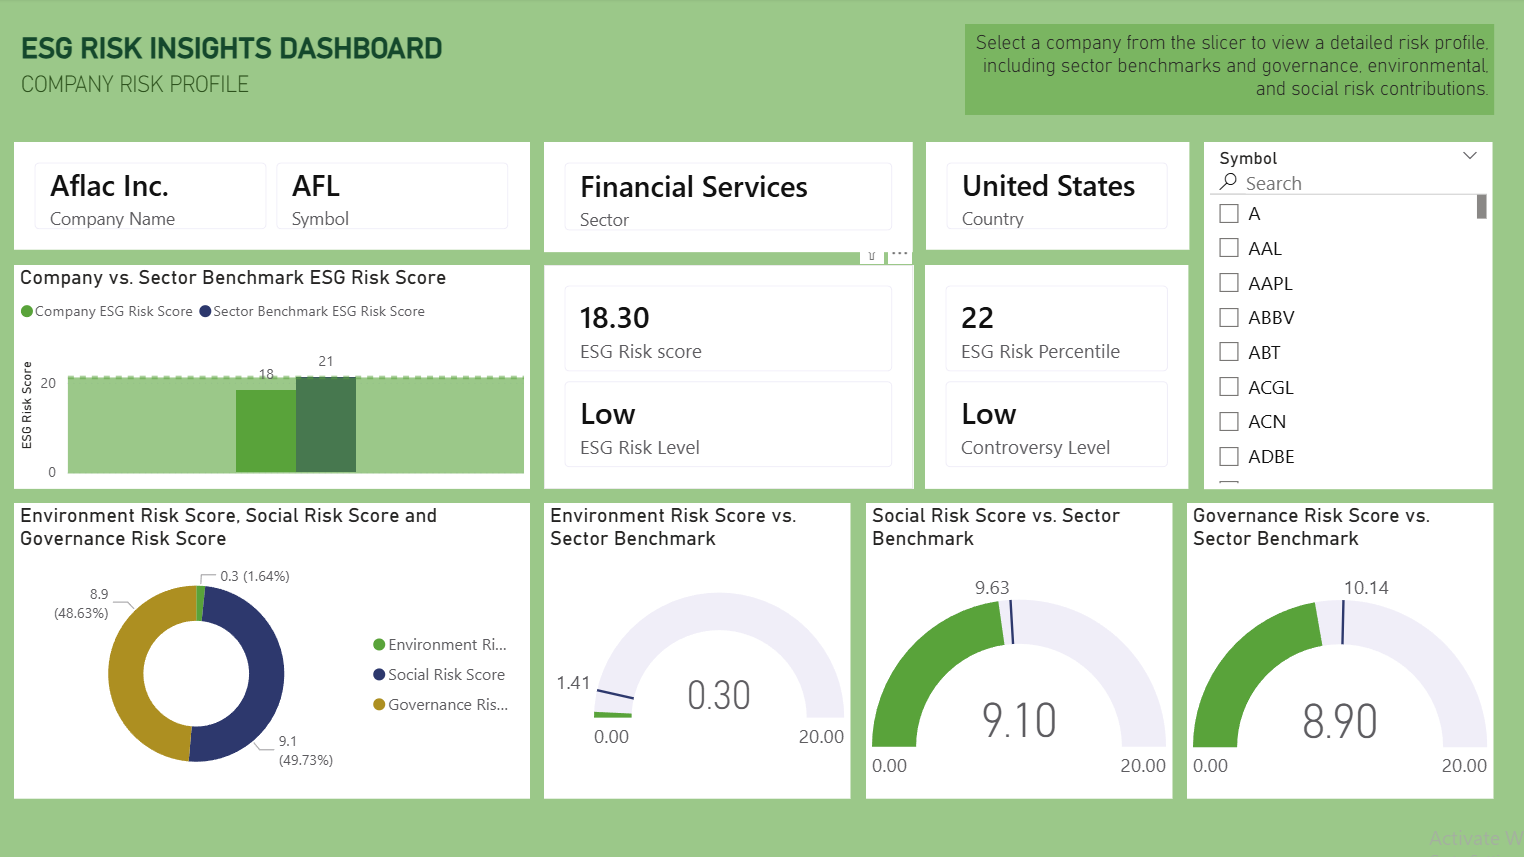

The dashboard page shown, as its layout file describes it:
{"tool":"powerbi","page":{"name":"Company Risk Profile","canvas":[1280,720],"ordinal":7},"visuals":[{"type":"slicer","fields":{"Values":["SP 500 ESG Risk Ratings.Symbol"]},"box":[1011.4,120,241.4,290],"z":0},{"type":"textbox","box":[18.4,23.3,1234.4,41.7],"z":1000},{"type":"textbox","box":[18,55.4,354.6,42.9],"z":2000},{"type":"gauge","title":"Environment Risk Score vs. Sector Benchmark","fields":{"Y":["Sum(SP 500 ESG Risk Ratings.Environment Risk Score)"],"TargetValue":["SP 500 ESG Risk Ratings.Sector Benchmark E Score"]},"box":[460,421.4,255.8,247.1],"z":2000,"group":"g1"},{"type":"donutChart","fields":{"Y":["Sum(SP 500 ESG Risk Ratings.Environment Risk Score)","Sum(SP 500 ESG Risk Ratings.Social Risk Score)","Sum(SP 500 ESG Risk Ratings.Governance Risk Score)"]},"box":[17.1,421.4,431.4,247.1],"z":3000},{"type":"cardVisual","fields":{"Data":["Min(SP 500 ESG Risk Ratings.Name)","Min(SP 500 ESG Risk Ratings.Symbol)"]},"box":[17.1,120,431.2,90.2],"z":4000,"group":"g2"},{"type":"cardVisual","fields":{"Data":["Sum(SP 500 ESG Risk Ratings.Total ESG Risk score)","Min(SP 500 ESG Risk Ratings.ESG Risk Level)"]},"box":[460,222.9,308.6,187.1],"z":4000},{"type":"gauge","title":"Social Risk Score vs. Sector Benchmark","fields":{"Y":["Sum(SP 500 ESG Risk Ratings.Social Risk Score)"],"TargetValue":["SP 500 ESG Risk Ratings.S Score - Sector Benchmark"]},"box":[728.6,421.4,255.6,246.6],"z":4000,"group":"g1"},{"type":"cardVisual","fields":{"Data":["Min(SP 500 ESG Risk Ratings.Sector)"]},"box":[459.7,120,308.4,91.7],"z":5000,"group":"g2"},{"type":"clusteredColumnChart","title":"Company vs. Sector Benchmark ESG Risk Score","fields":{"Y":["SP 500 ESG Risk Ratings.ESG score","SP 500 ESG Risk Ratings.Sector Benchmark ESG"]},"box":[17.1,222.9,431.4,187.1],"z":5000},{"type":"cardVisual","fields":{"Data":["Min(SP 500 ESG Risk Ratings.Country)"]},"box":[778.7,120,219.9,90.2],"z":6000,"group":"g2"},{"type":"group","id":"g1","title":"Group 1","box":[460,421.4,792.9,247.1],"z":6000},{"type":"gauge","title":"Governance Risk Score vs. Sector Benchmark","fields":{"Y":["Sum(SP 500 ESG Risk Ratings.Governance Risk Score)"],"TargetValue":["SP 500 ESG Risk Ratings.G Score - Sector Benchmark"]},"box":[997.1,421.4,255.8,247.1],"z":6000,"group":"g1"},{"type":"cardVisual","fields":{"Data":["Sum(SP 500 ESG Risk Ratings.ESG Risk Percentile)","Min(SP 500 ESG Risk Ratings.Controversy Level)"]},"box":[778.6,222.9,220,187.1],"z":7000},{"type":"group","id":"g2","title":"Group 2","box":[17.1,120,981.4,91.7],"z":8000},{"type":"textbox","box":[811.5,21.8,442.3,75.6],"z":9000}]}

Visuals, with their boxes in screenshot pixels (x1, y1, x2, y2), scaled from the page's 1280x720 canvas onto the 1524x857 screenshot:
slicer - SP 500 ESG Risk Ratings.Symbol: [1204,143,1492,488]
textbox: [22,28,1492,77]
textbox: [21,66,444,117]
"Environment Risk Score vs. Sector Benchmark" gauge: [548,502,852,796]
donutChart - Sum(SP 500 ESG Risk Ratings.Environment Risk Score) x Sum(SP 500 ESG Risk Ratings.Social Risk Score): [20,502,534,796]
cardVisual - Min(SP 500 ESG Risk Ratings.Name) x Min(SP 500 ESG Risk Ratings.Symbol): [20,143,534,250]
cardVisual - Sum(SP 500 ESG Risk Ratings.Total ESG Risk score) x Min(SP 500 ESG Risk Ratings.ESG Risk Level): [548,265,915,488]
"Social Risk Score vs. Sector Benchmark" gauge: [867,502,1172,795]
cardVisual - Min(SP 500 ESG Risk Ratings.Sector): [547,143,915,252]
"Company vs. Sector Benchmark ESG Risk Score" clusteredColumnChart: [20,265,534,488]
cardVisual - Min(SP 500 ESG Risk Ratings.Country): [927,143,1189,250]
"Group 1" group: [548,502,1492,796]
"Governance Risk Score vs. Sector Benchmark" gauge: [1187,502,1492,796]
cardVisual - Sum(SP 500 ESG Risk Ratings.ESG Risk Percentile) x Min(SP 500 ESG Risk Ratings.Controversy Level): [927,265,1189,488]
"Group 2" group: [20,143,1189,252]
textbox: [966,26,1493,116]
